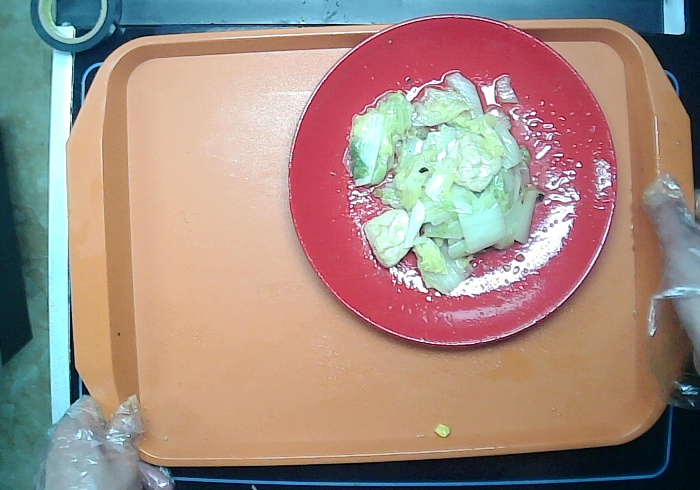HZYJPL-Hong_Se_Yuan_Pan: (285, 12, 623, 355)
